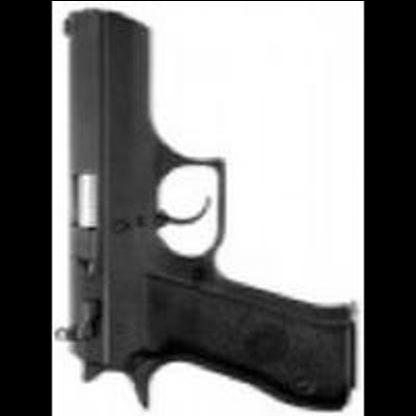weapon: (55, 1, 362, 416)
